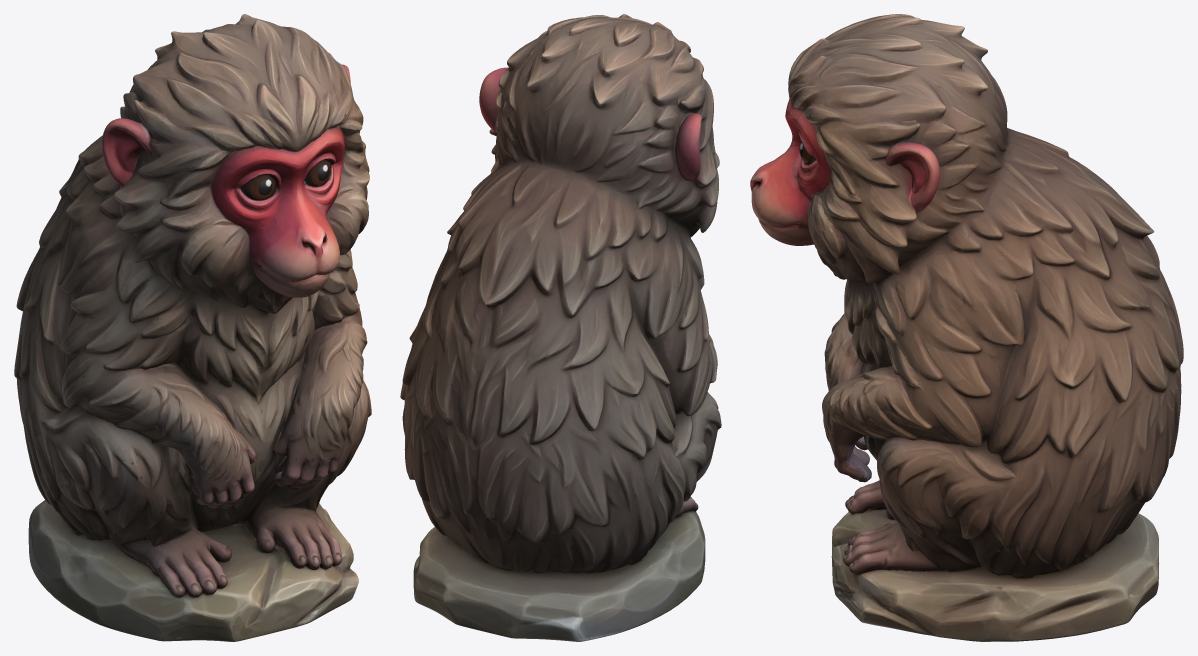
File: japanese_macaque.glb
3 renders of one model, left to right at view 1: azimuth 30°, elevation 25°; view 2: azimuth 150°, elevation 25°; view 3: azimuth 270°, elevation 25°, orthographic. The views are drawn at different scales.
Visible parts, largest first — view 1: output_unwrapped; view 2: output_unwrapped; view 3: output_unwrapped.
Boxes of the visible parts, <box> form: output_unwrapped: <box>14,14,371,641</box>; output_unwrapped: <box>400,14,721,641</box>; output_unwrapped: <box>750,14,1183,641</box>.
Bounding box in the file's own units: 0.9916 × 1.9 × 1.35.
1 material, 1 textured.
